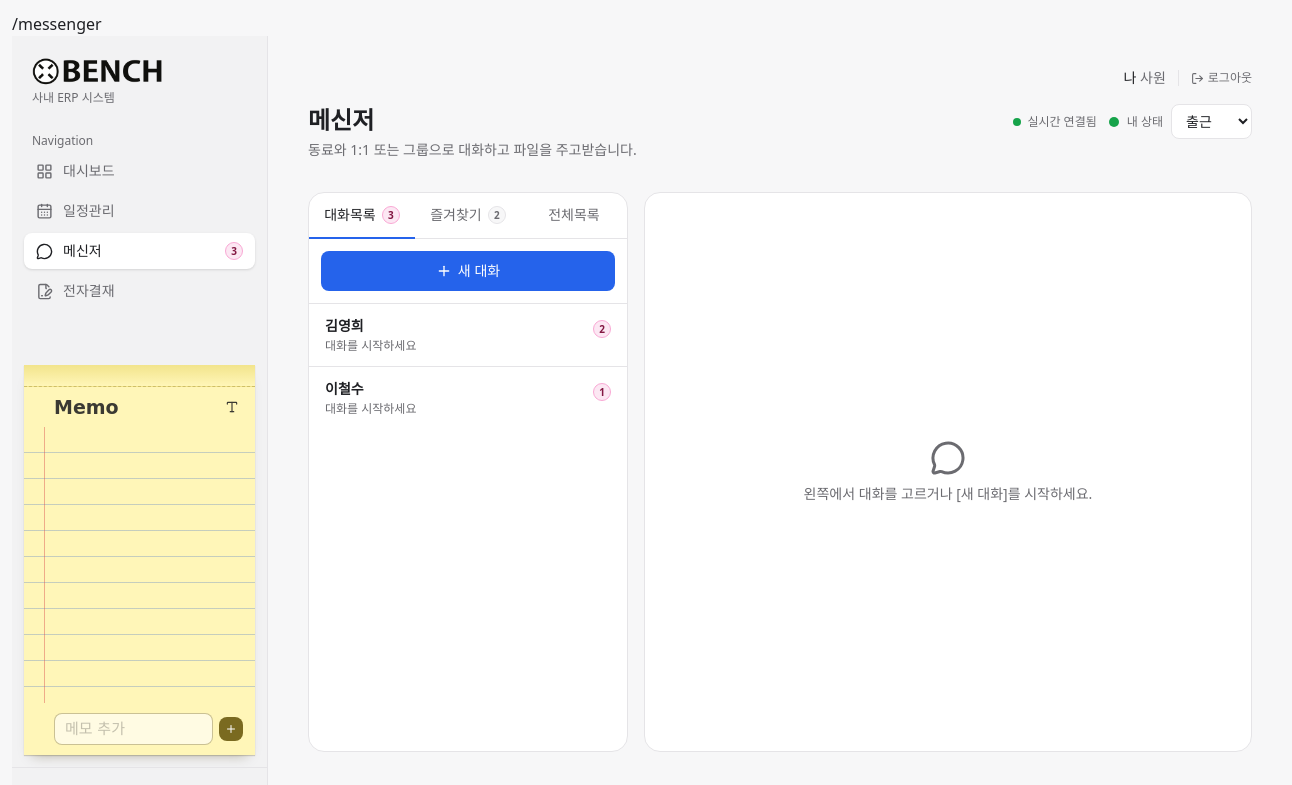
Test: 메신저 탭 › 전체목록 탭: 모든 직원이 이름 옆 체크박스·현재 상태와 함께 나오고 즐겨찾기한 사람은 체크돼 있다
The width and height of the screenshot is (1292, 785).
What coordinates should you click on to do the following:
click the tab "전체목록"
I would click on:
 (574, 216)
Its box is [521, 193, 627, 239].
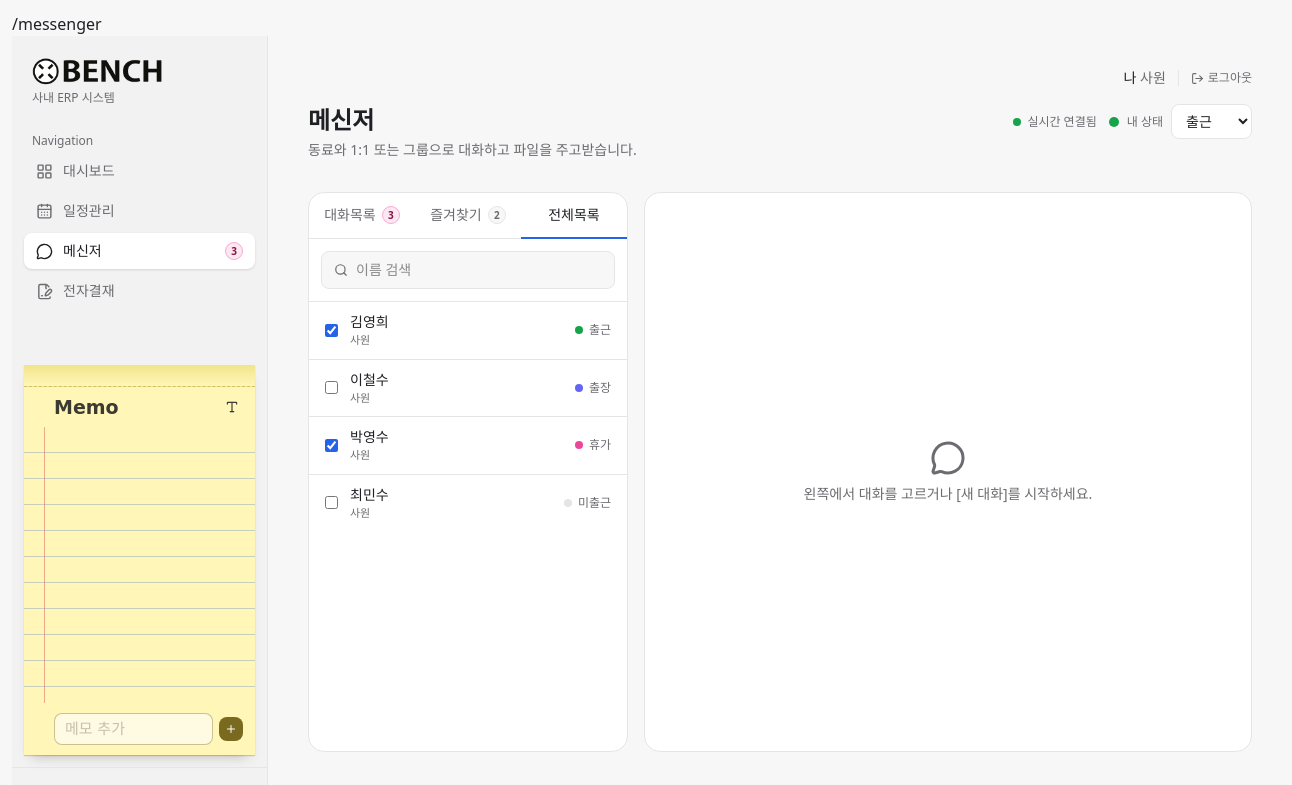
Now the checkbox named "김영희 즐겨찾기" is checked, box [325, 324, 338, 337]
Now the checkbox named "이철수 즐겨찾기" is not checked, box [325, 381, 338, 394]
Now the text "출근" is shown, box [575, 322, 611, 338]
